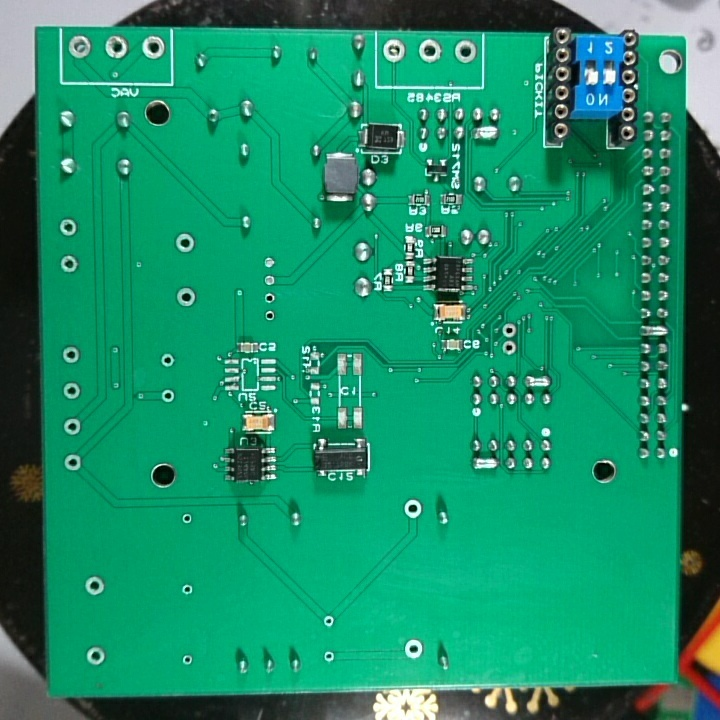F: (380, 36, 411, 68), (416, 36, 446, 66), (140, 32, 167, 63), (453, 37, 479, 69), (66, 34, 95, 61), (103, 33, 129, 62), (84, 645, 110, 671), (174, 286, 199, 312), (83, 575, 109, 599), (56, 215, 83, 238), (173, 232, 199, 255), (59, 344, 82, 369), (402, 497, 424, 521), (403, 637, 425, 661), (61, 380, 83, 403), (59, 252, 81, 275), (61, 452, 84, 472), (63, 415, 83, 438), (159, 350, 177, 372), (159, 386, 177, 406), (180, 651, 199, 669), (261, 252, 279, 270), (501, 338, 517, 358), (501, 322, 519, 339), (260, 271, 279, 287), (181, 581, 196, 601), (261, 306, 278, 323), (321, 612, 336, 631), (261, 291, 280, 306), (321, 648, 336, 664), (180, 510, 195, 526)
P: (523, 370, 553, 392), (470, 453, 501, 474), (470, 125, 503, 143), (638, 323, 670, 339)
